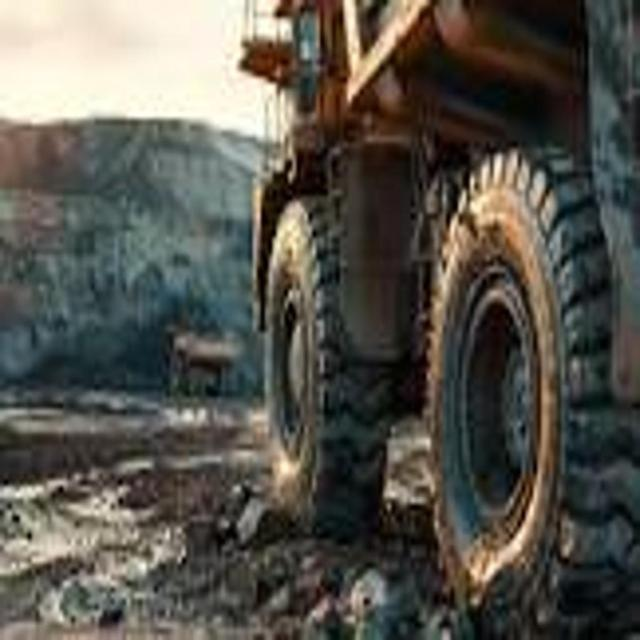dump_truck: (237, 0, 640, 630)
